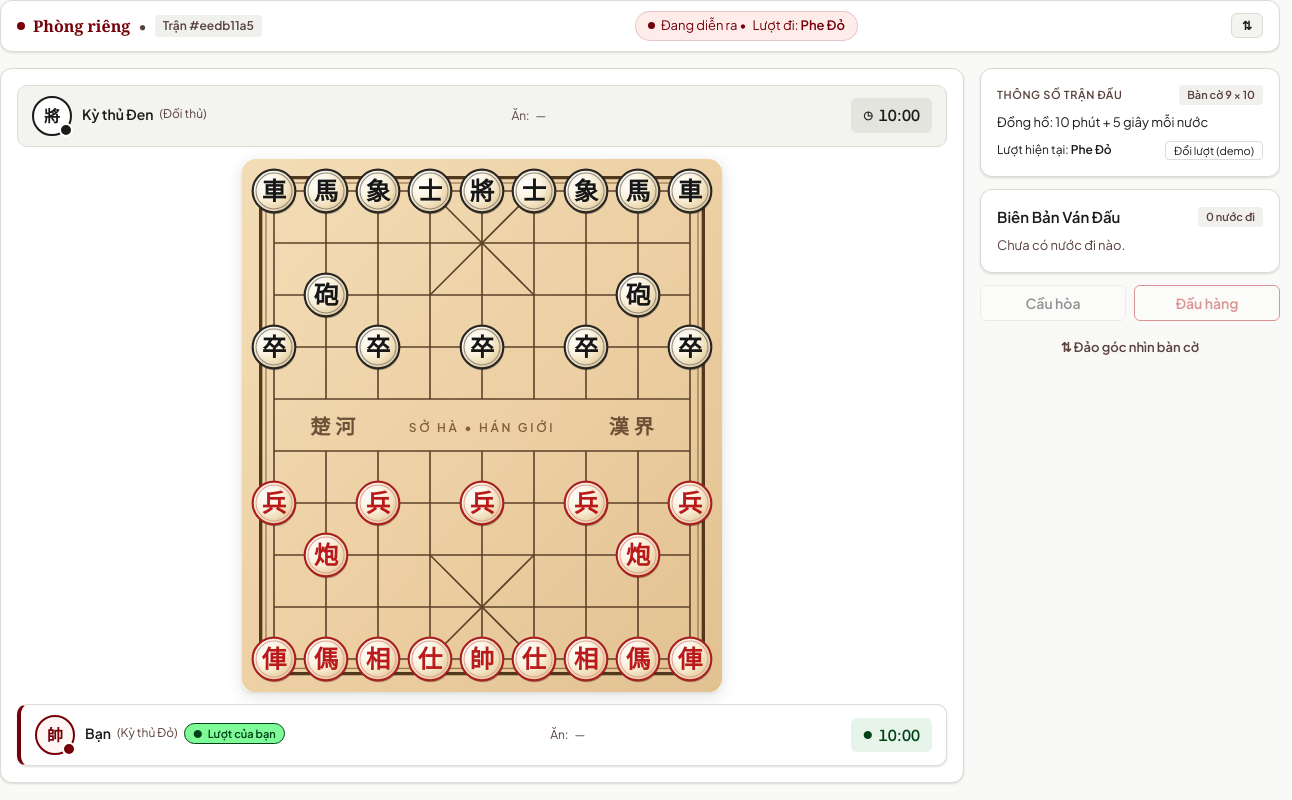
Scenario: MatchPage › keeps "you" on your own side when the board is flipped
Expected: the text "(Kỳ thủ Đỏ)" is shown, [117,724,178,742]
Expected: the text "(Đối thủ)" is shown, [160,105,207,123]
Click the button named "Đảo góc nhìn bàn cờ" at (1247, 26), box [1231,13,1263,38]
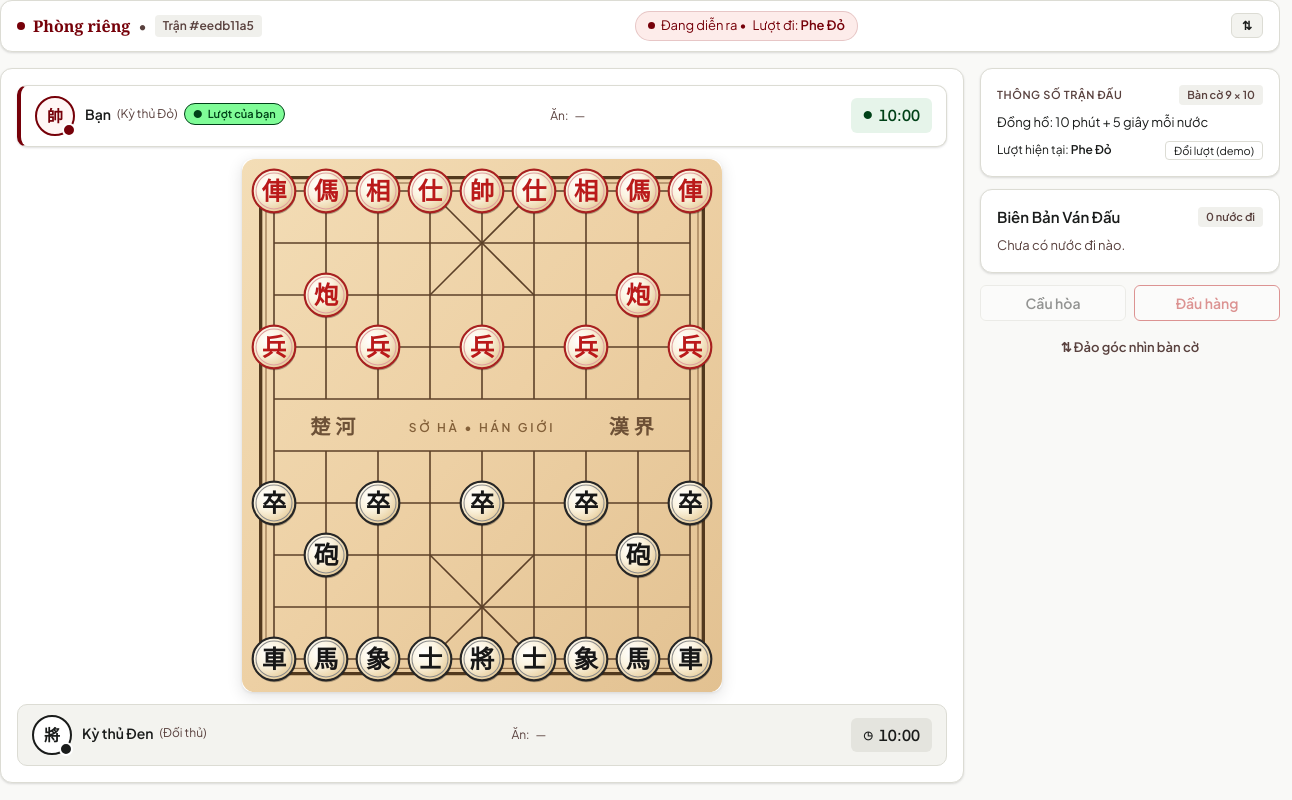
Expected: the text "(Kỳ thủ Đỏ)" is shown, [117,105,178,123]
Expected: the text "(Đối thủ)" is shown, [160,724,207,742]
